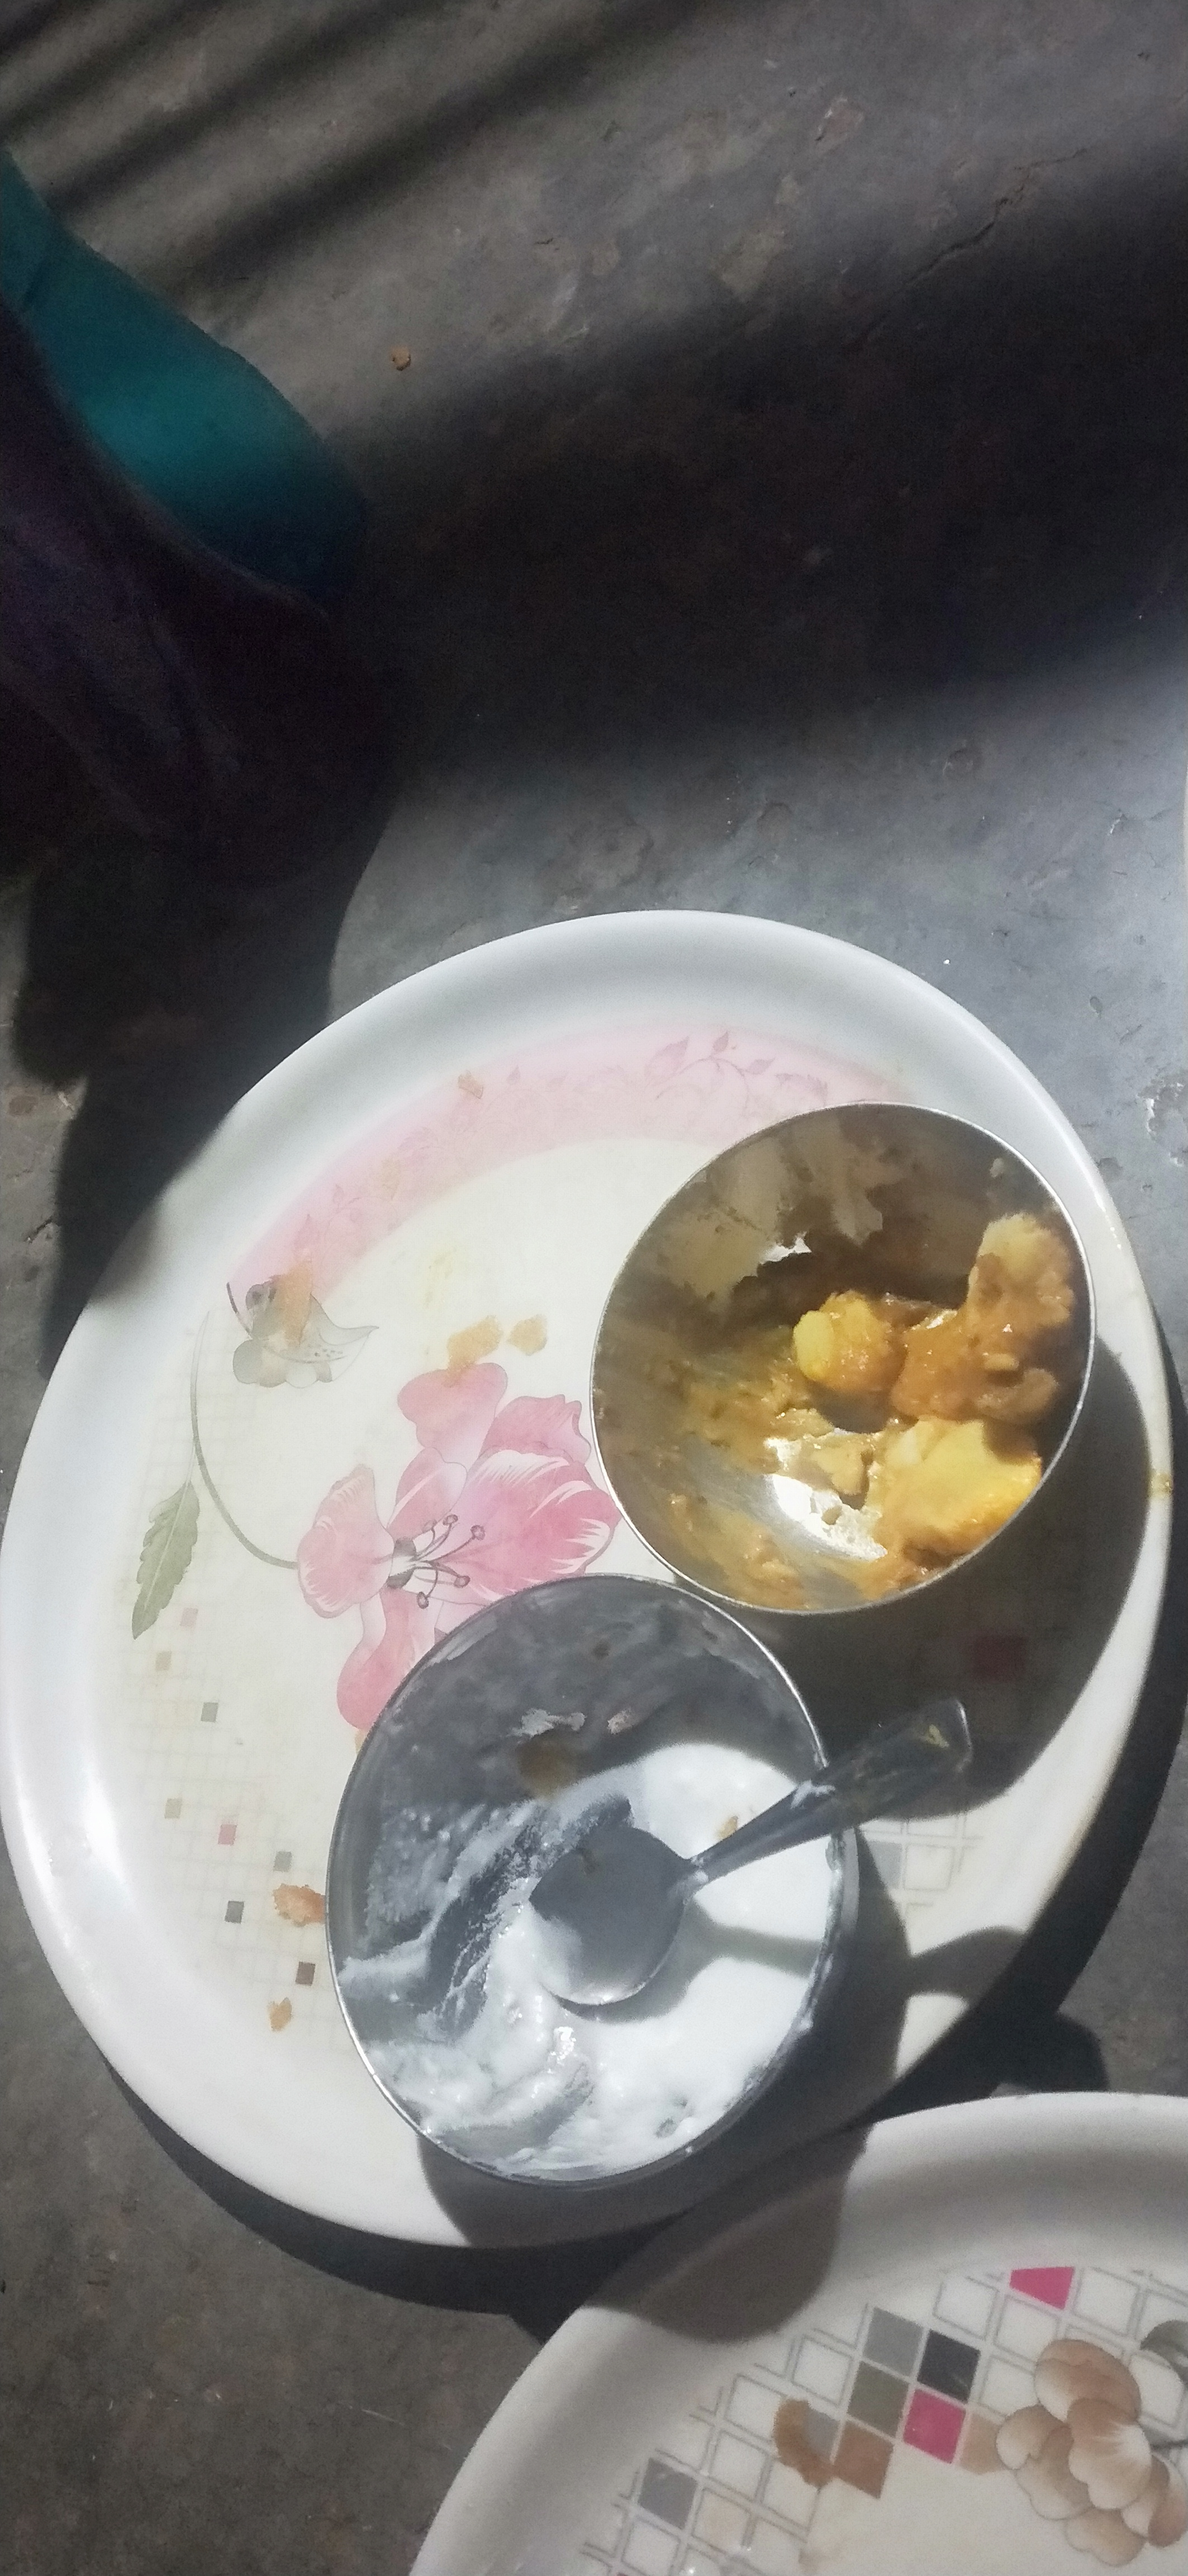food: (309, 1093, 1106, 2200)
